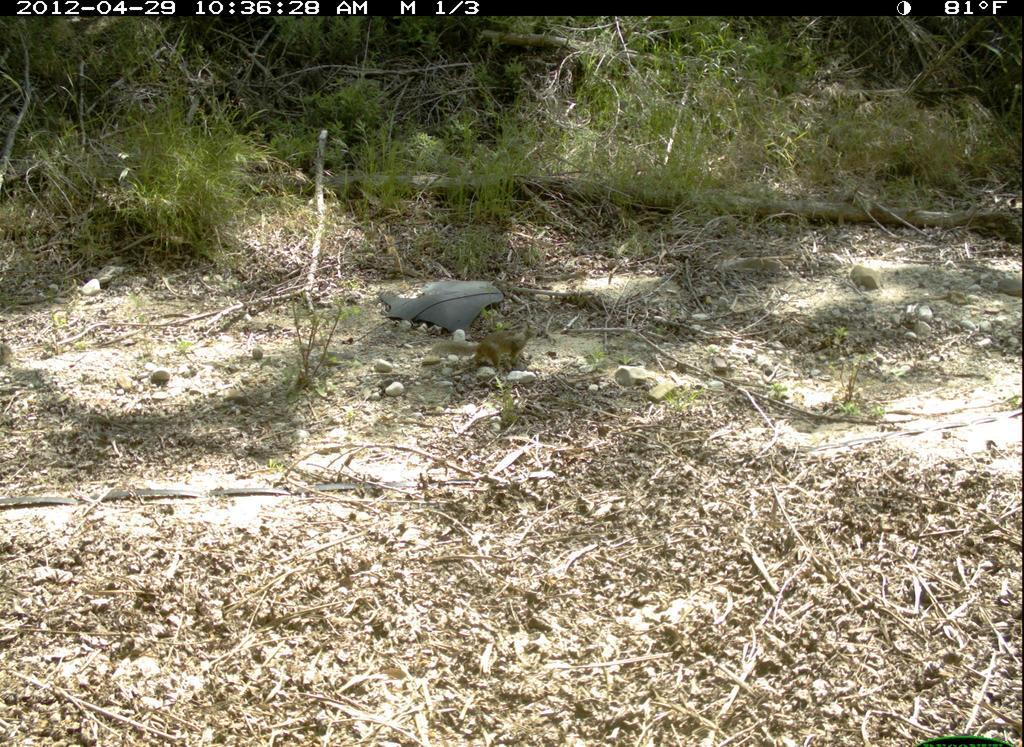squirrel: (429, 320, 544, 378)
